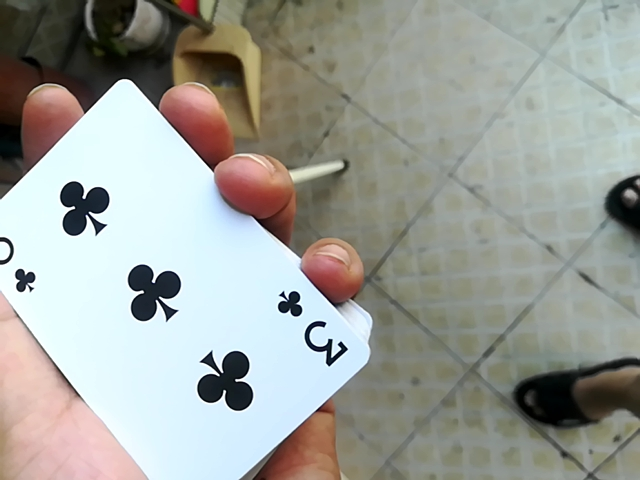mh 3: (0, 84, 380, 479)
